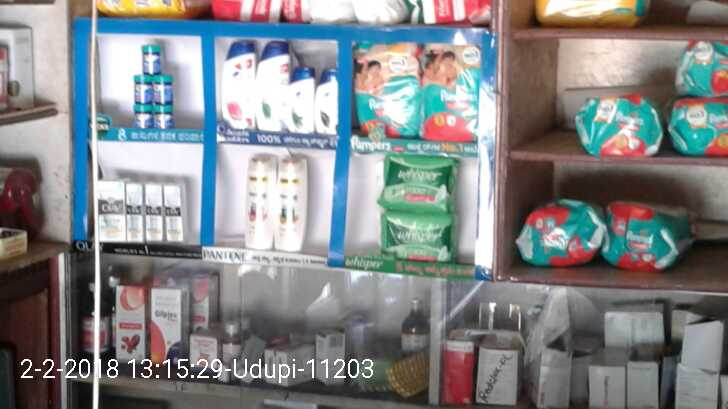beauty: (216, 32, 259, 135), (275, 152, 310, 253), (238, 151, 273, 251), (258, 35, 290, 132), (97, 173, 127, 245), (286, 64, 316, 134), (318, 66, 341, 133), (142, 182, 165, 248), (125, 173, 144, 239), (167, 180, 186, 245)
pharmacy: (570, 94, 666, 164), (416, 39, 475, 148), (355, 46, 425, 137), (602, 200, 680, 275), (521, 198, 604, 267), (379, 150, 451, 209), (381, 214, 450, 259), (140, 42, 163, 75), (133, 103, 152, 129), (134, 75, 149, 105), (152, 104, 171, 127), (155, 79, 171, 104)
